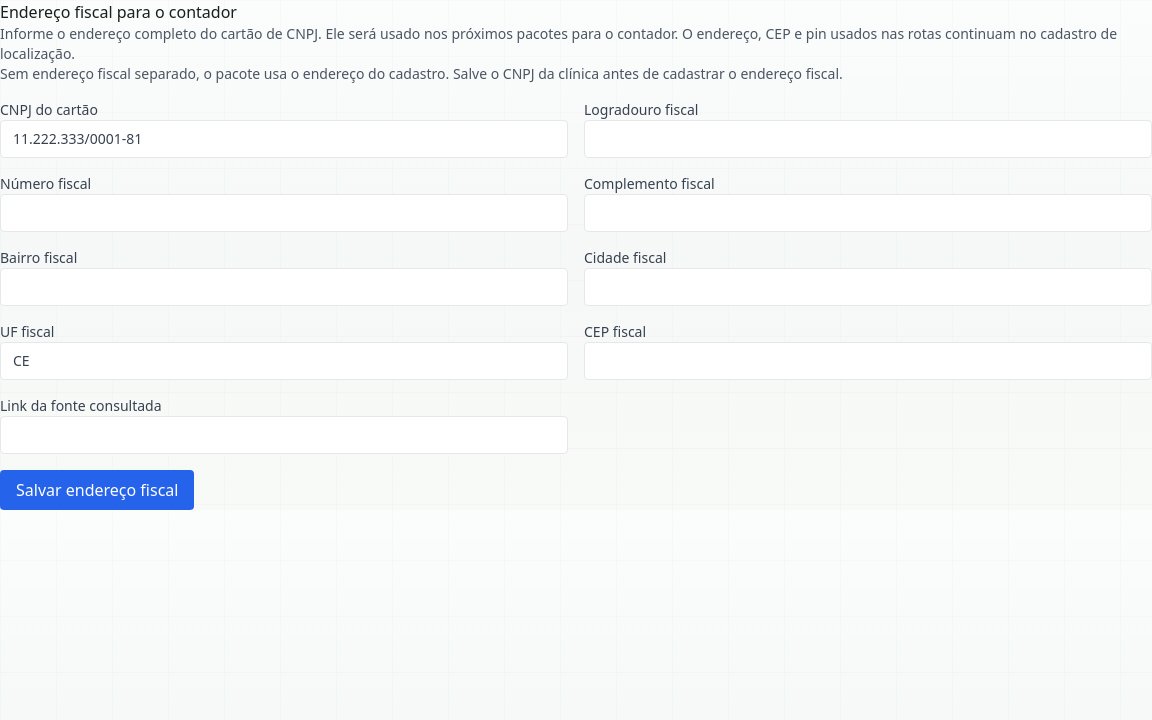
Test: endereço fiscal separado da localização › salva somente o endereço fiscal sem usar CEP ou pin operacional
This screenshot has width=1152, height=720.
Check: the field labelled "CNPJ do cartão" holds "11.222.333/0001-81", box [0,120,568,158]
Type "60763-730" into the field labelled "CEP fiscal" at x=868, y=361, box [584,342,1151,380]
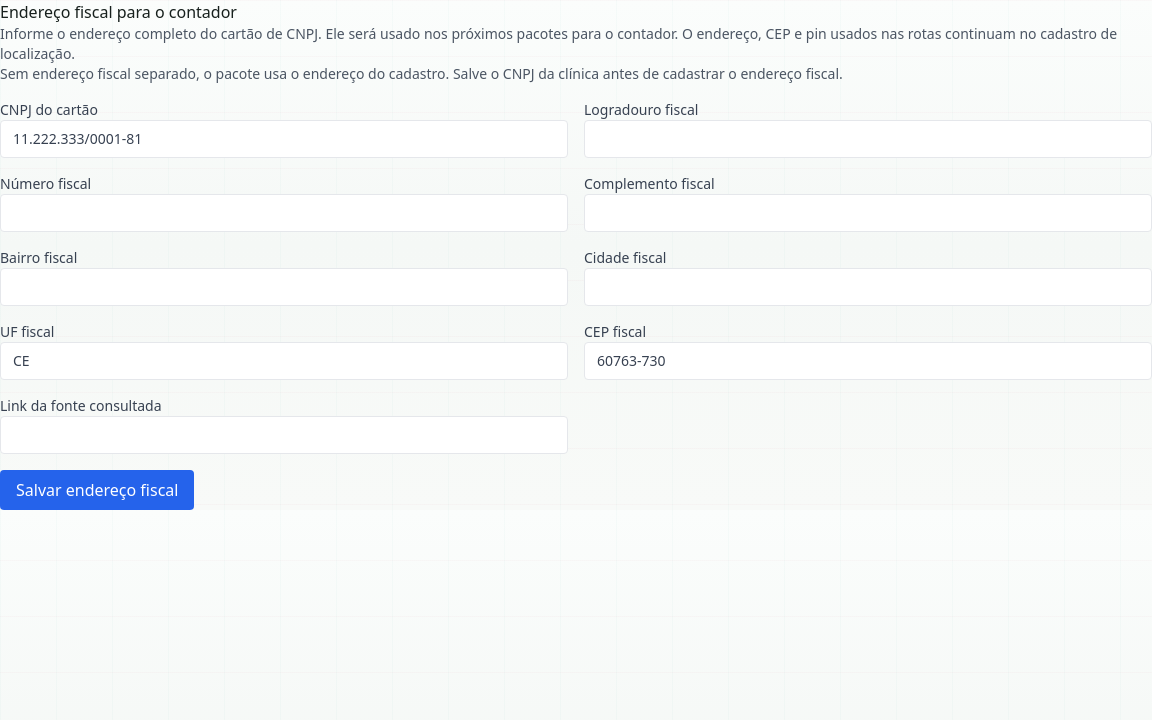
Click the button "Salvar endereço fiscal" at x=97, y=490, box [0,470,194,510]
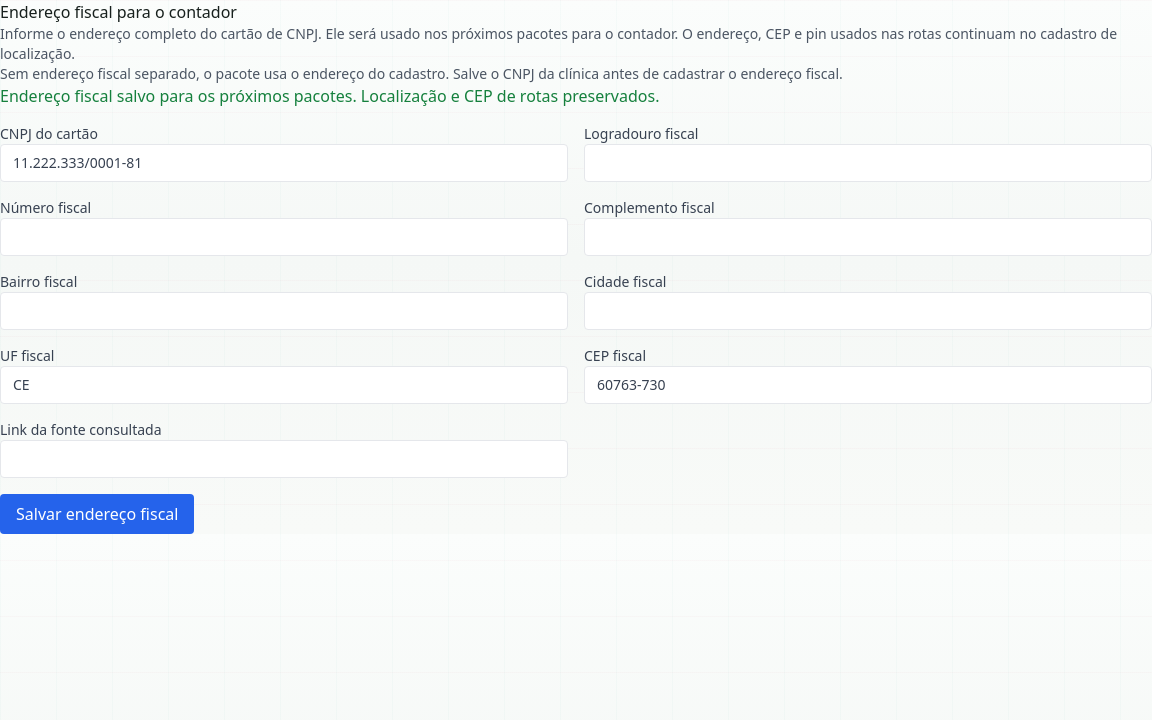
Check: the text "Endereço fiscal salvo" is shown, box [0,85,659,107]
